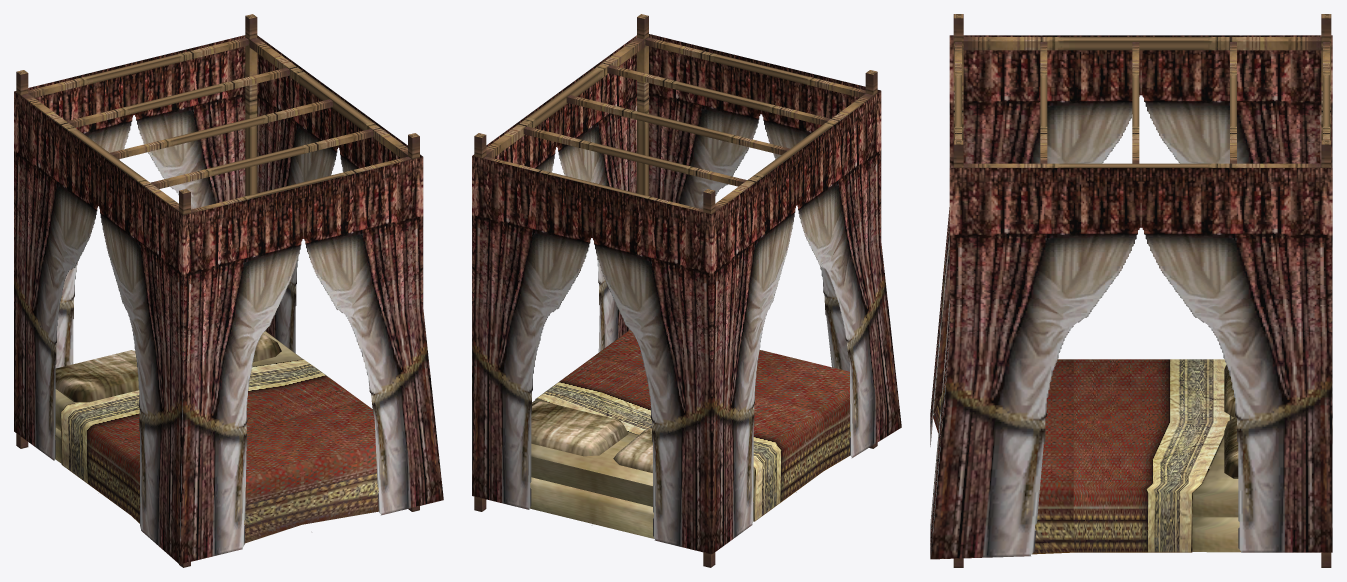
The model's file is Bed04.glb.
3 views of the same model, side by side, from view 1: azimuth 30°, elevation 25°; view 2: azimuth 150°, elevation 25°; view 3: azimuth 270°, elevation 25° (orthographic). The views are drawn at different scales.
Parts seen in each view (by area): view 1: _Bed04; view 2: _Bed04; view 3: _Bed04.
Boxes of the visible parts, left/top/right/bottom form: _Bed04: left=14, top=14, right=443, bottom=567; _Bed04: left=472, top=14, right=901, bottom=567; _Bed04: left=930, top=14, right=1332, bottom=567.
Size of the model in its own units: 3.5 by 4.73 by 4.07.
Materials: 2 (2 with a texture image).
